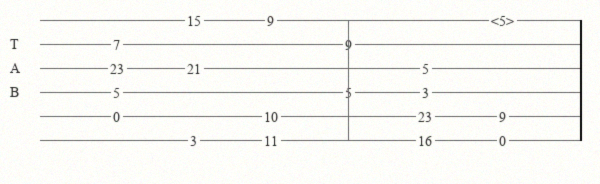0: (113, 109, 124, 123), (499, 133, 510, 147)
10: (264, 109, 282, 123)
11: (264, 133, 282, 147)
15: (187, 13, 205, 27)
16: (418, 133, 436, 147)
21: (187, 61, 205, 75)
23: (110, 61, 128, 75), (418, 109, 436, 123)
3: (190, 133, 201, 147), (422, 85, 433, 99)
5: (113, 85, 124, 99), (345, 85, 356, 99), (422, 61, 433, 75)
7: (113, 37, 124, 51)
9: (267, 13, 278, 27), (345, 37, 356, 51), (499, 109, 510, 123)
harmonic: (491, 13, 518, 27)
